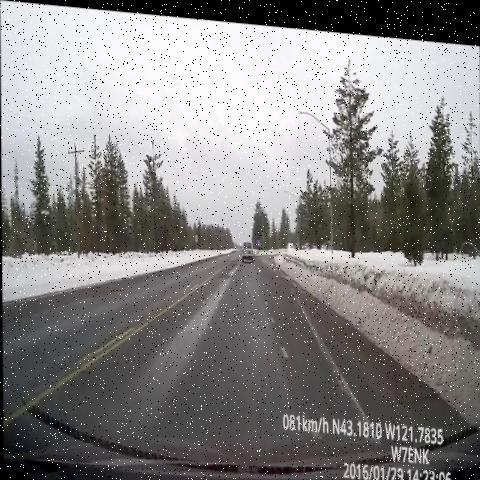pothole: (211, 261, 240, 282), (226, 246, 240, 268)
